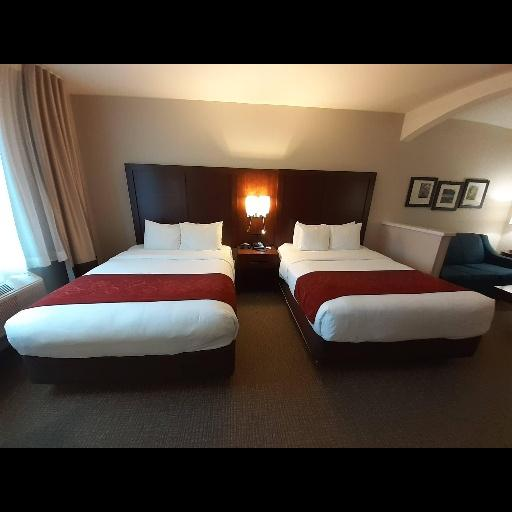clean_bed: (6, 164, 237, 386), (282, 171, 505, 380)
clean_floor: (0, 280, 508, 452)
organised_pillow: (143, 216, 228, 251), (290, 218, 366, 255)
